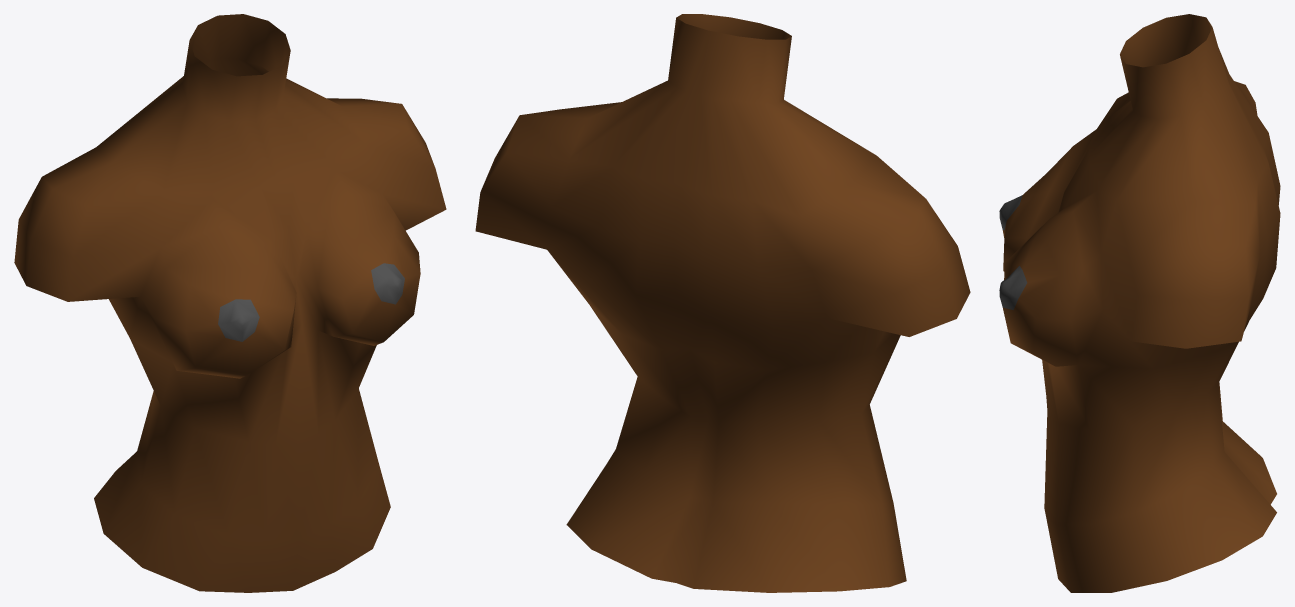
Rendered from female_base_mesh.glb.
3 views of the same model, side by side, from view 1: azimuth 30°, elevation 25°; view 2: azimuth 150°, elevation 25°; view 3: azimuth 270°, elevation 25° (orthographic). The views are drawn at different scales.
Visible parts, largest first — view 1: Cylinder; view 2: Cylinder; view 3: Cylinder.
Boxes of the visible parts, x1,y1,x2,y2 form: Cylinder: [14, 14, 446, 592]; Cylinder: [475, 14, 970, 592]; Cylinder: [999, 14, 1280, 592].
Bounding box in the file's own units: 0.5602 × 0.6819 × 0.3227.
